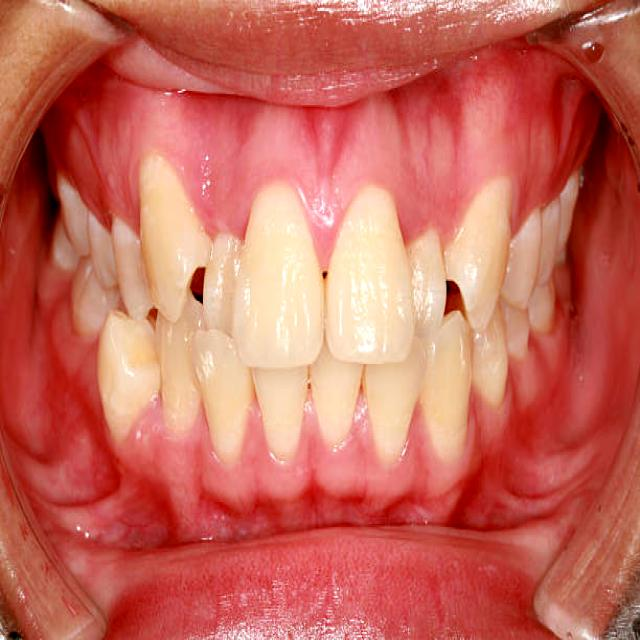gingivitis: (43, 47, 599, 267)
